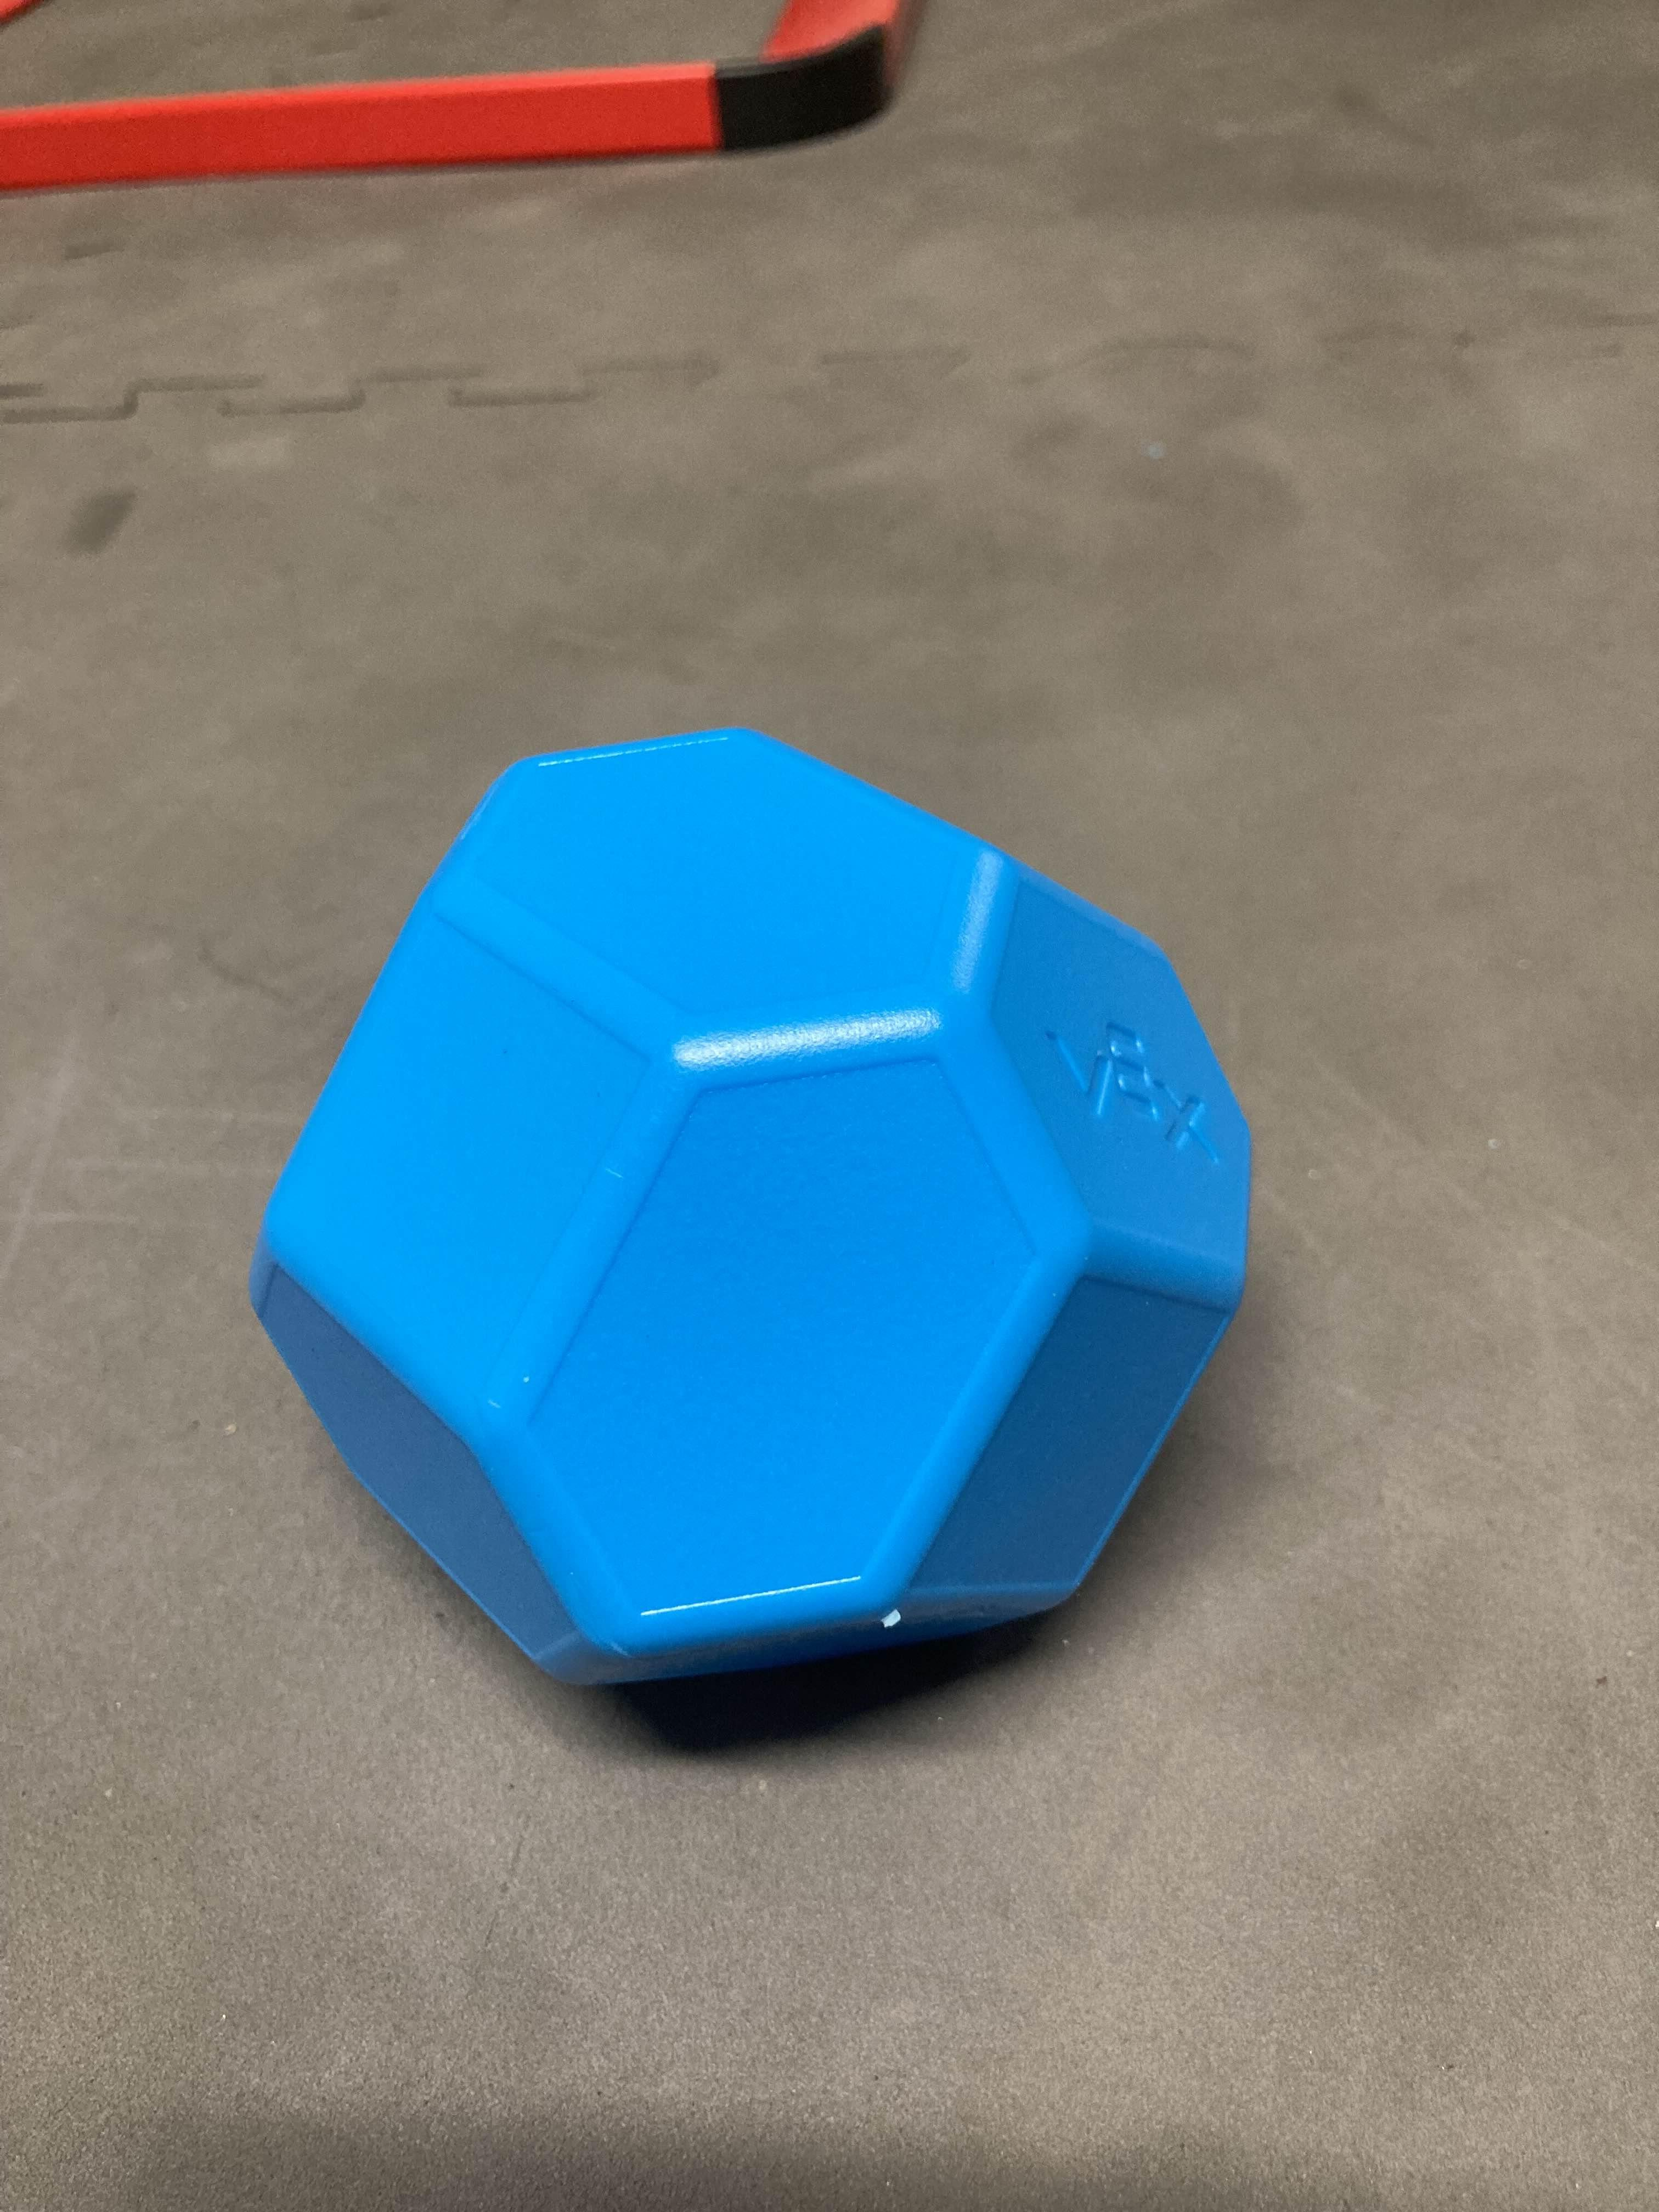Vex-Pieces-BLUE: (246, 728, 1258, 1698)
